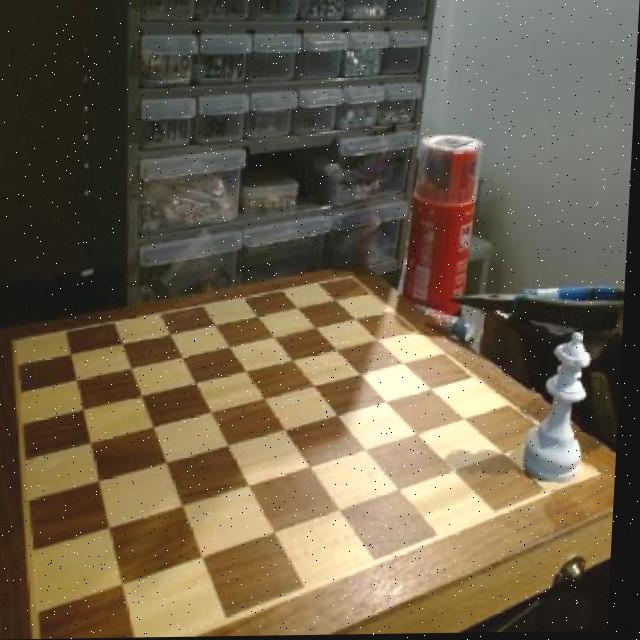white-pawn: (529, 328, 604, 496)
